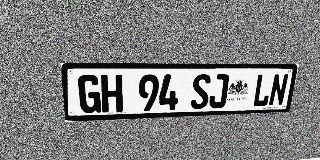4: (159, 74, 179, 110)
9: (139, 74, 159, 111)
G: (77, 75, 101, 113)
H: (101, 74, 123, 113)
J: (208, 74, 230, 109)
L: (252, 74, 273, 107)
N: (268, 74, 289, 106)
S: (190, 74, 211, 109)
